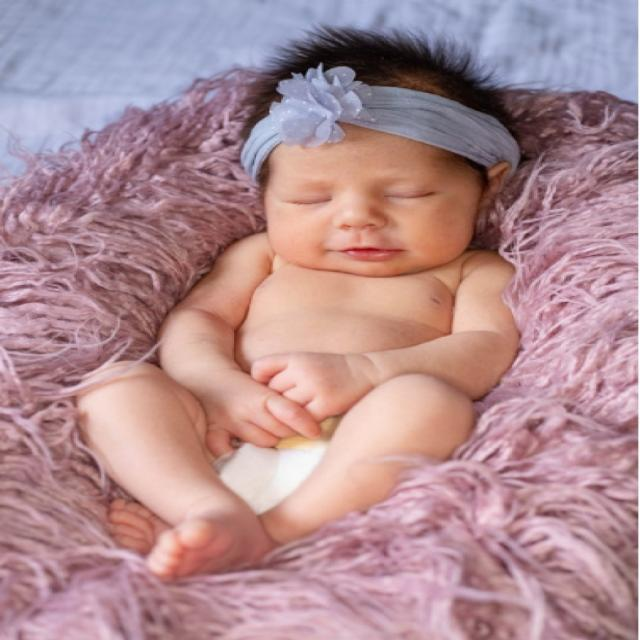non-dog: (73, 26, 524, 583)
